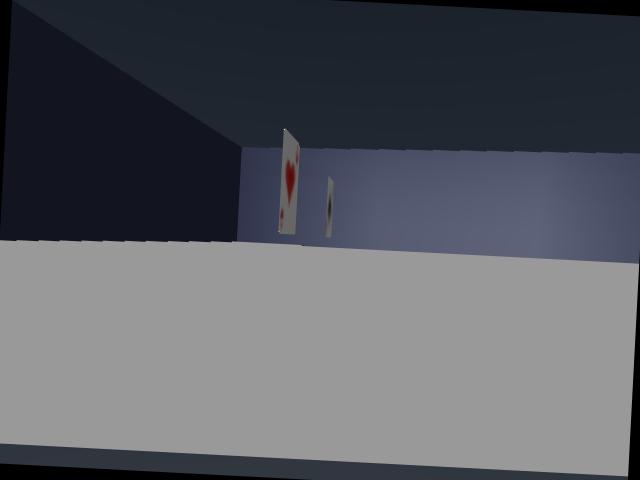club: (325, 177, 333, 237)
heart: (278, 129, 299, 234)
